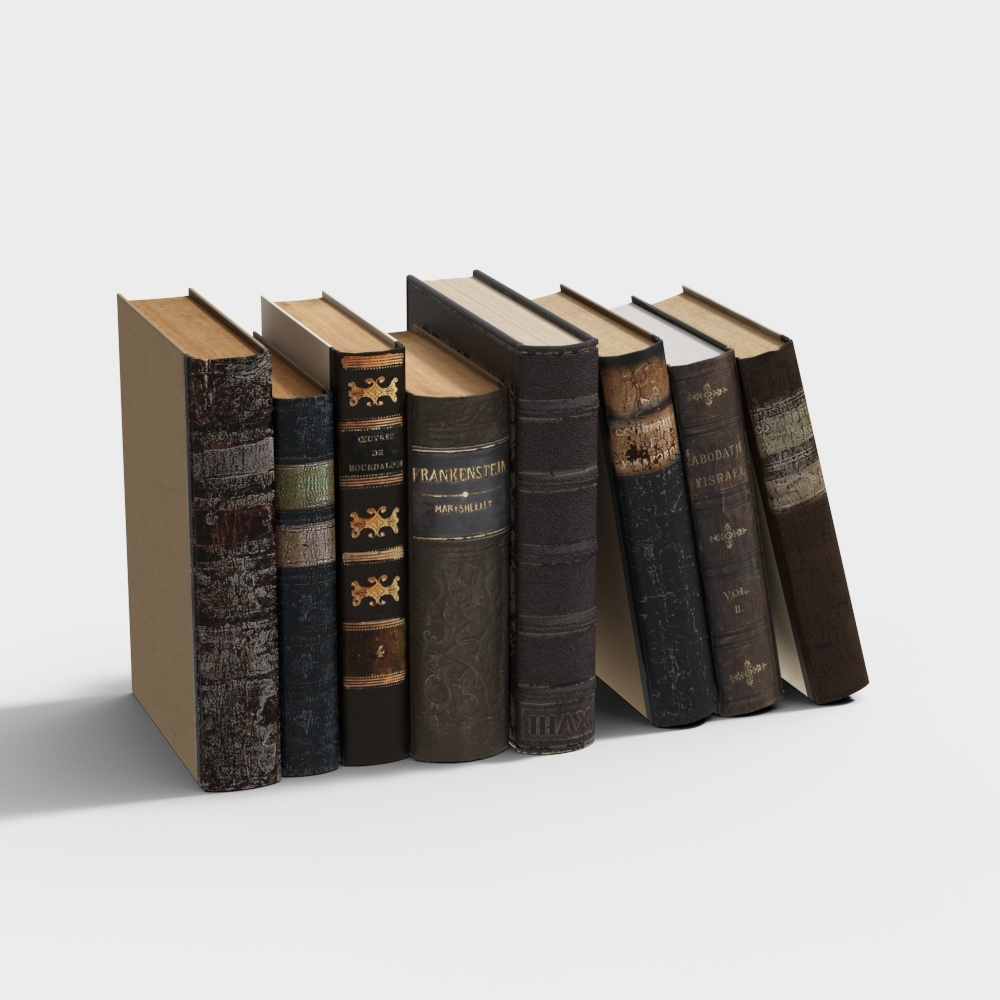book: (420, 255, 595, 783), (100, 301, 274, 801), (542, 290, 696, 758), (370, 320, 501, 762), (291, 287, 404, 772), (716, 333, 855, 710), (645, 315, 772, 717), (257, 378, 338, 790)
